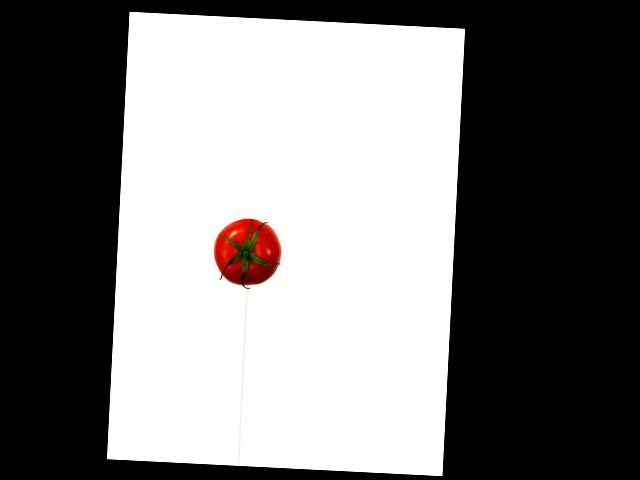tomato: (212, 216, 282, 286)
